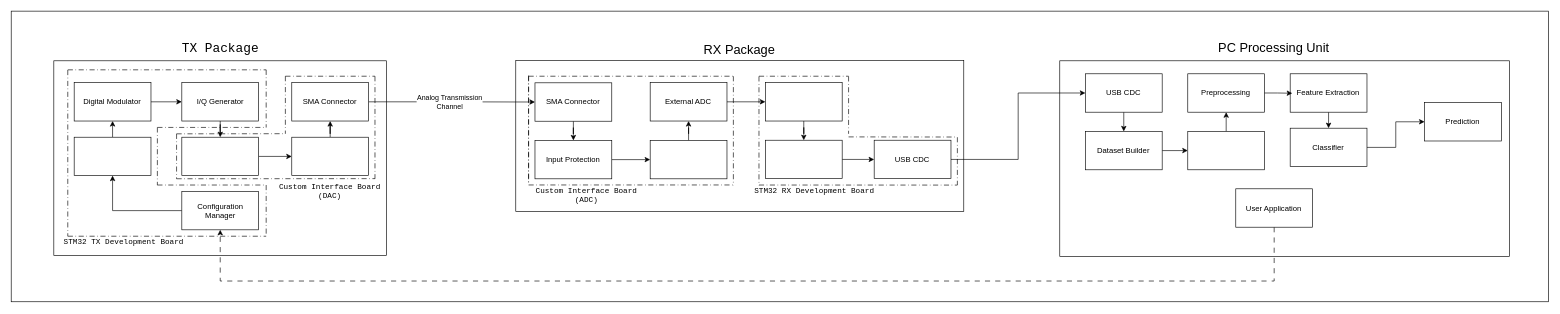
The diagram is 1560 pixels wide and 314 high, and some of its shapes have lost their labels. The shapes that lost their labels are listed below. From the top down, each one's centre as x and y in pixels, then its label:
At point 803,101: "DMA".
At point 112,156: "Bit Generator".
At point 220,156: "External DAC".
At point 330,156: "Reconstruction Filter".
At point 688,159: "Anti Alias Filter".
At point 803,159: "Circular Buffer".
At point 1226,150: "Data Acquisition".
